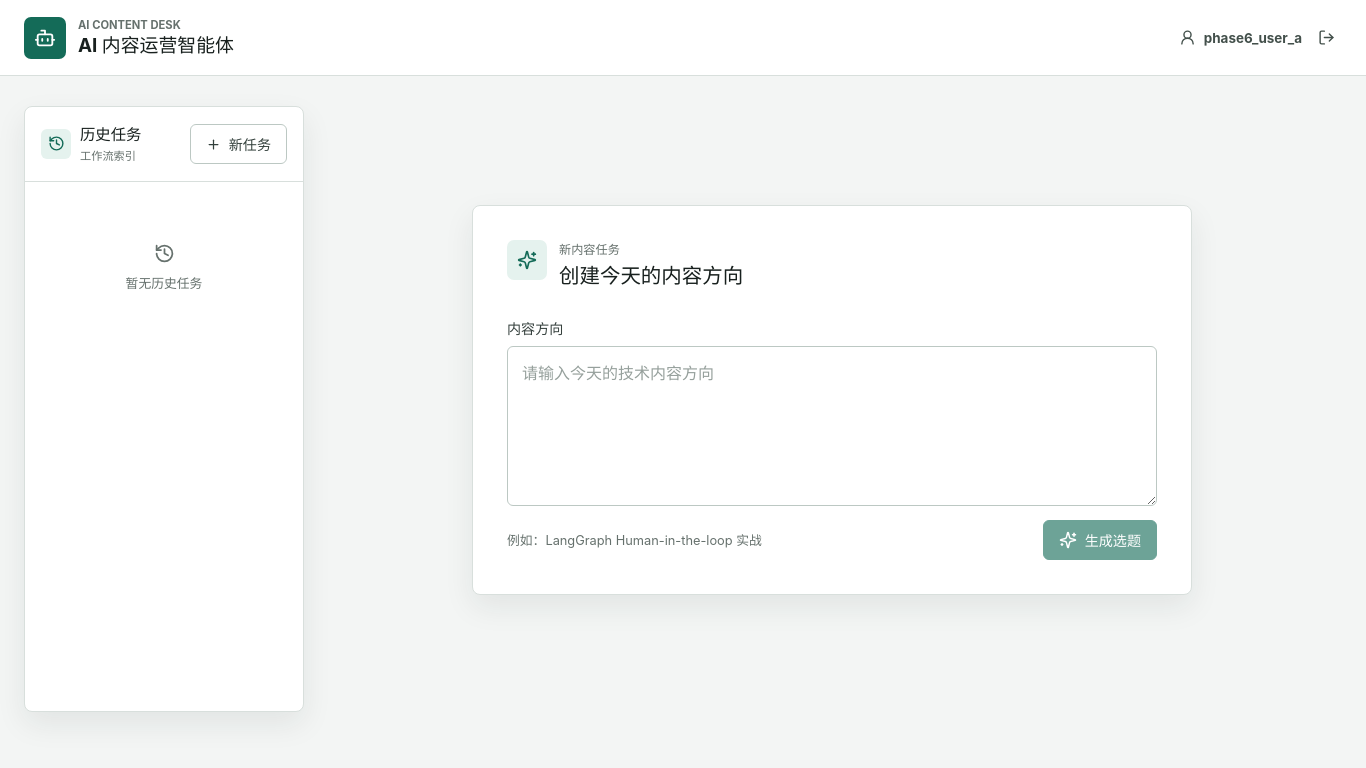
Test: AI content workflow › stops loading and shows a sanitized stream error
Type "异常测试" into the text box labelled "内容方向" at (832, 426), box [507,346,1157,506]
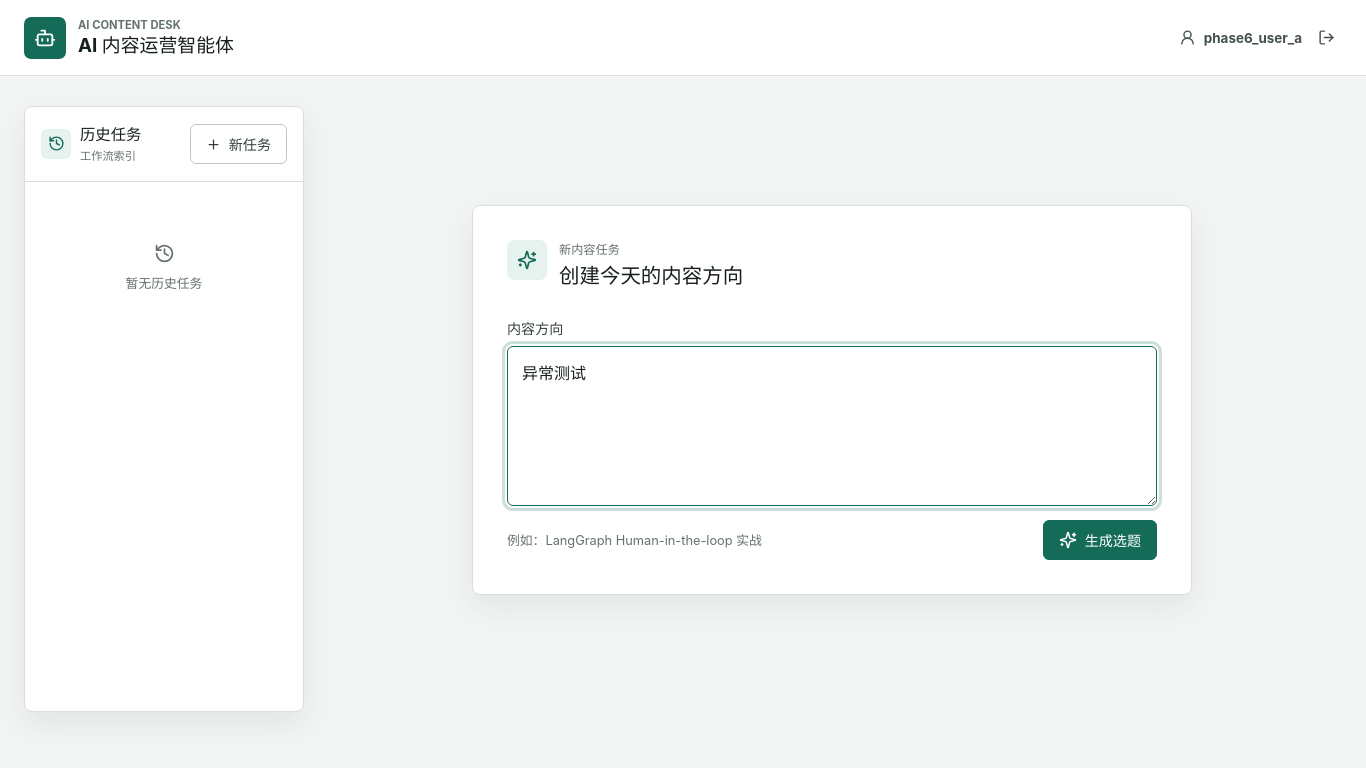
Click the button "生成选题" at (1100, 540), box [1043,520,1157,560]
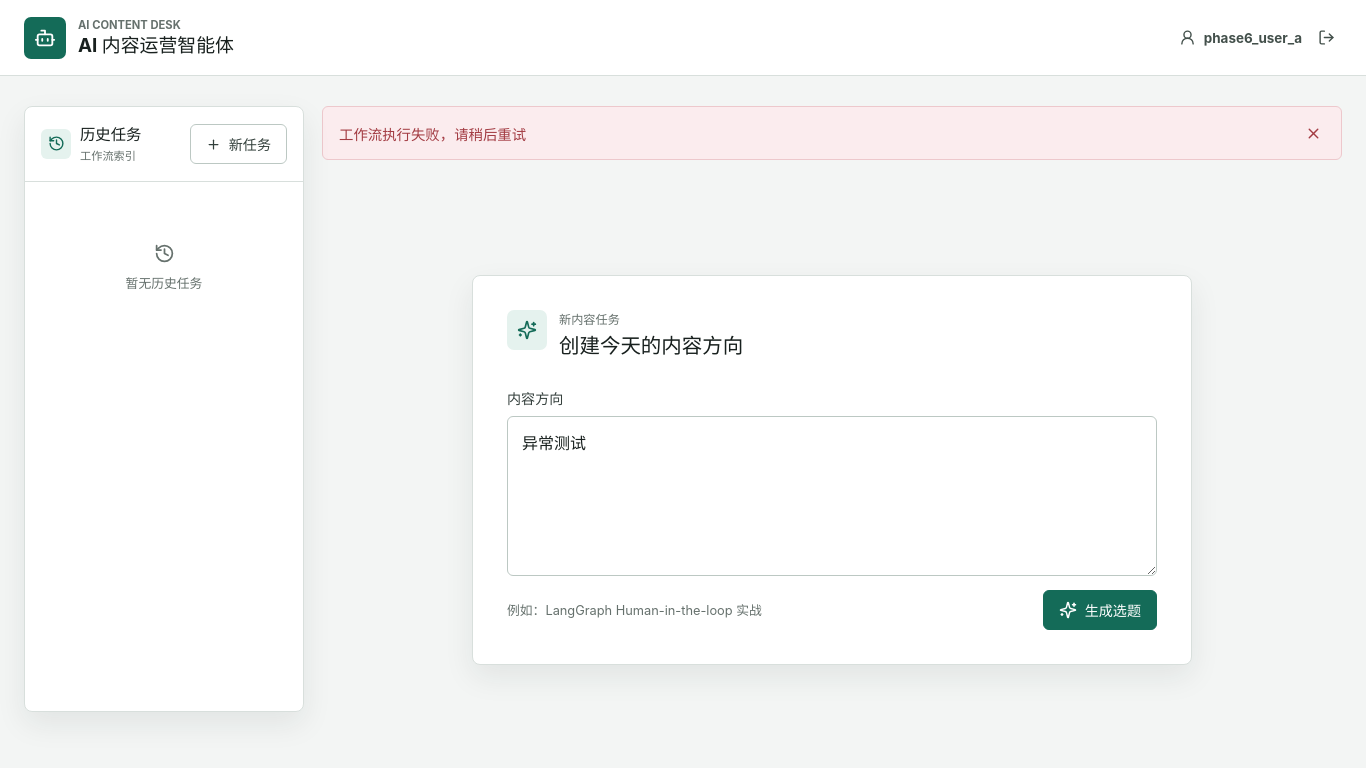
Check: the text "工作流执行失败，请稍后重试" is shown, box [339,122,526,144]
